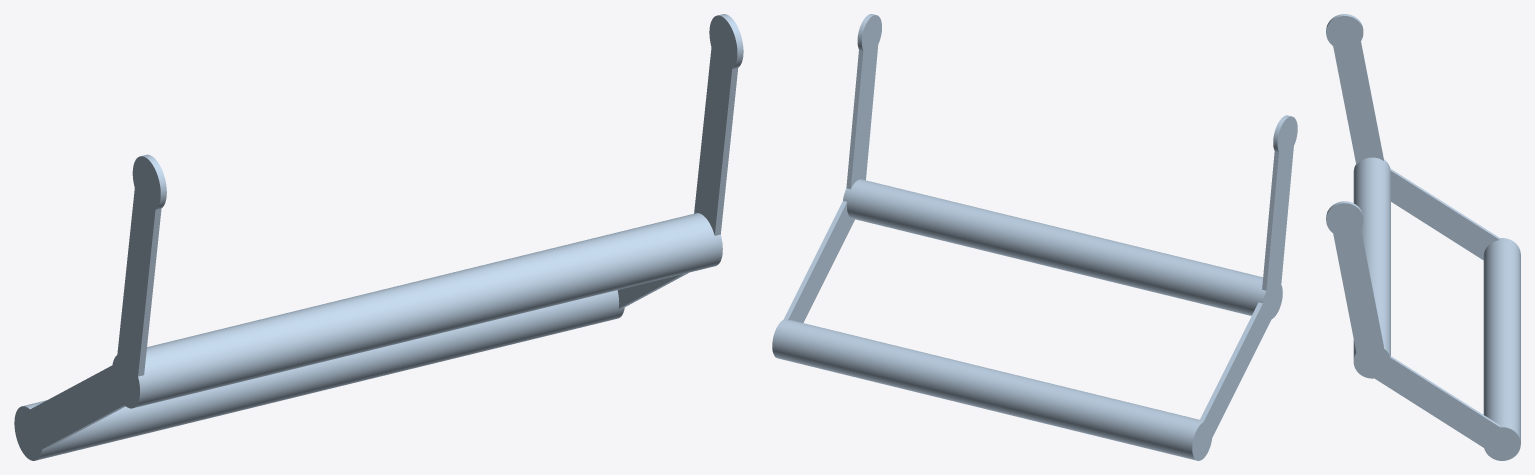
The picture shows the model from 3 angles, left to right: view 1: azimuth 30°, elevation 25°; view 2: azimuth 150°, elevation 25°; view 3: azimuth 270°, elevation 25°; orthographic projection. The views are drawn at different scales.
Visible parts, largest first — view 1: Rollers; view 2: Rollers; view 3: Rollers.
Boxes of the visible parts, x1,y1,x2,y2 form: Rollers: [14, 14, 743, 460]; Rollers: [772, 14, 1297, 460]; Rollers: [1326, 14, 1520, 460].
Bounding box in the file's own units: 0.6096 × 0.3872 × 0.2651.
